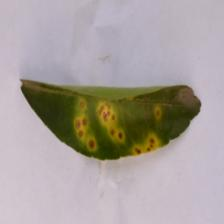canker: (69, 96, 171, 154)
